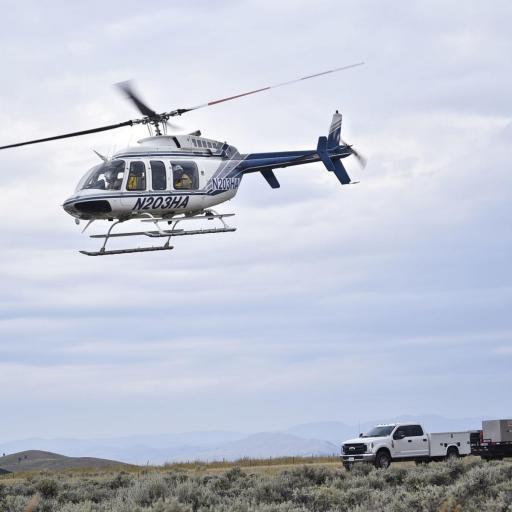helicopter: (5, 47, 379, 273)
